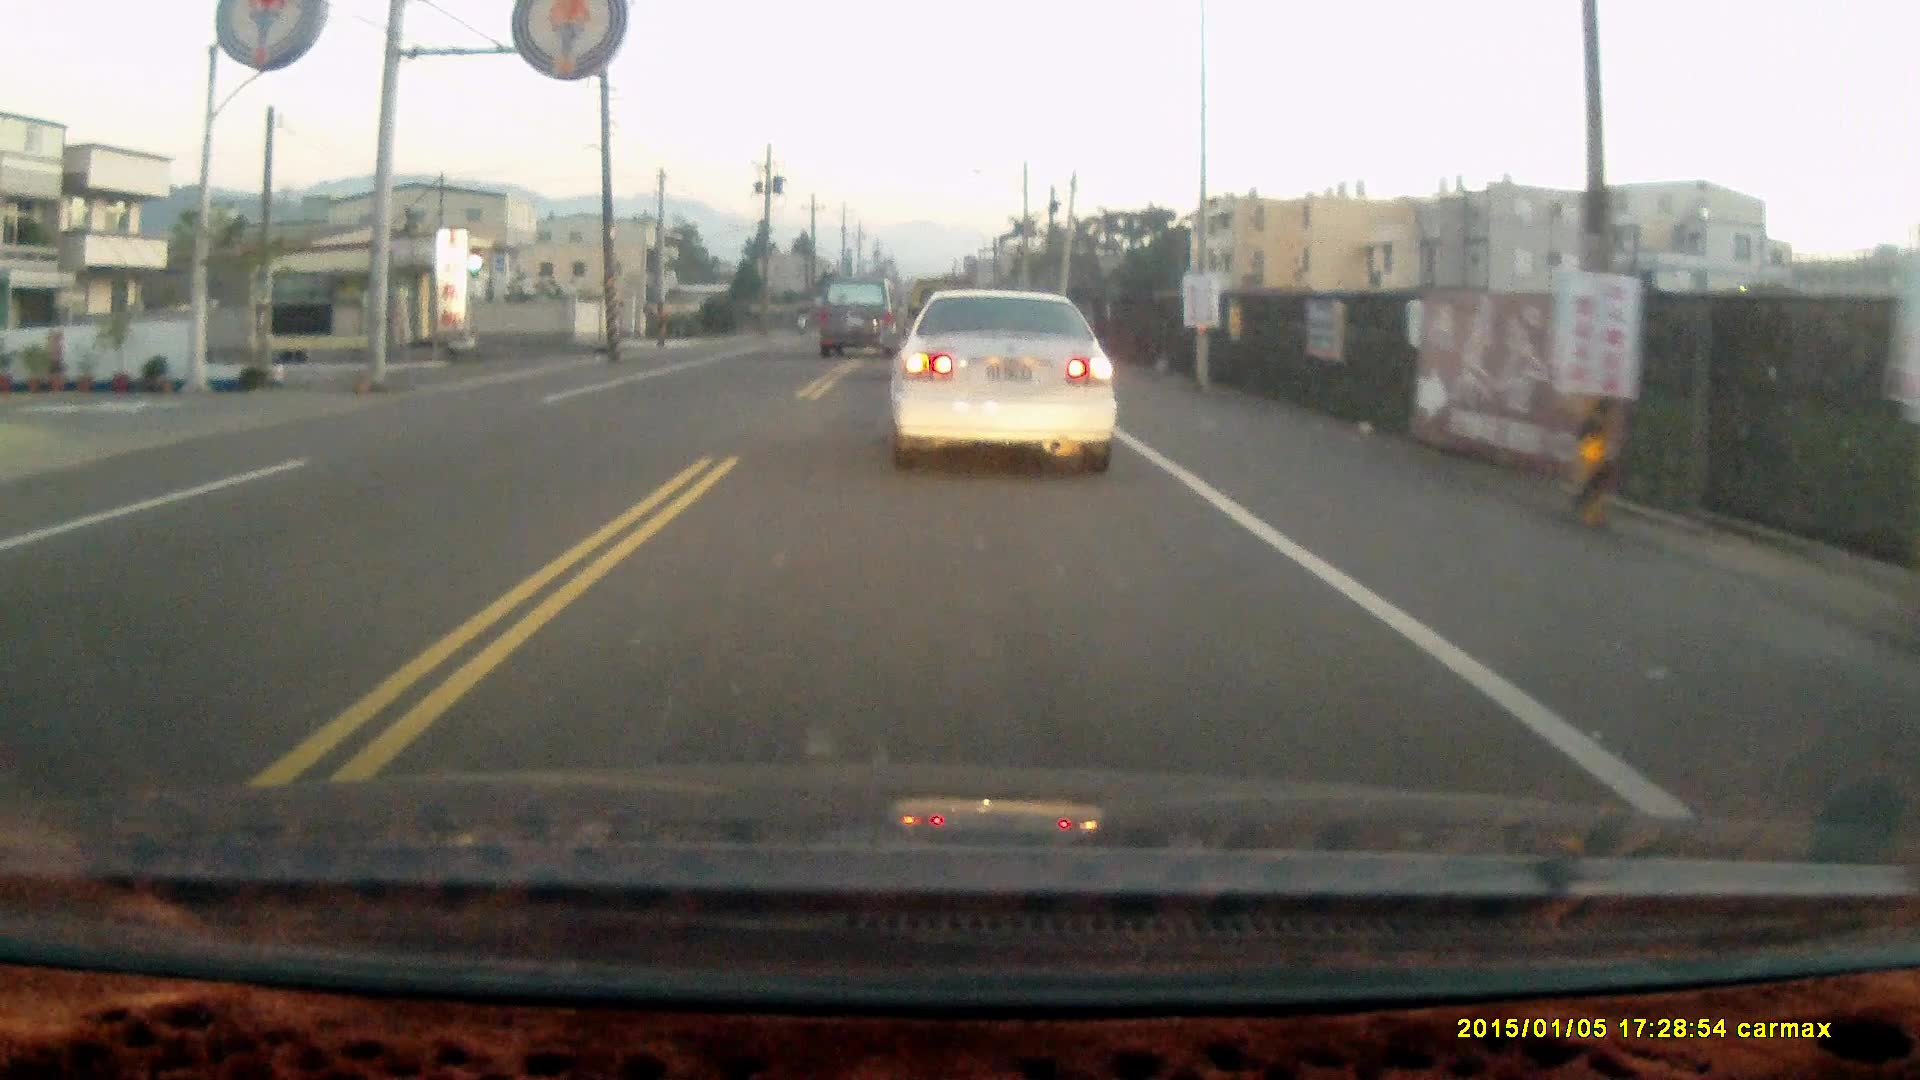vehicle: (886, 291, 1129, 483), (818, 276, 903, 365)
